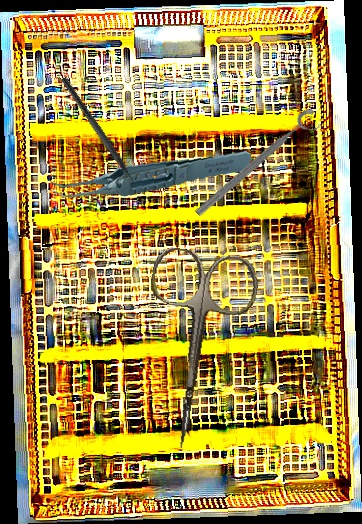Chopper: (52, 75, 144, 197)
Fixation Ring: (192, 106, 325, 226)
Iris Scissors: (126, 244, 262, 457)
Tissue Forceps: (45, 133, 252, 213)
